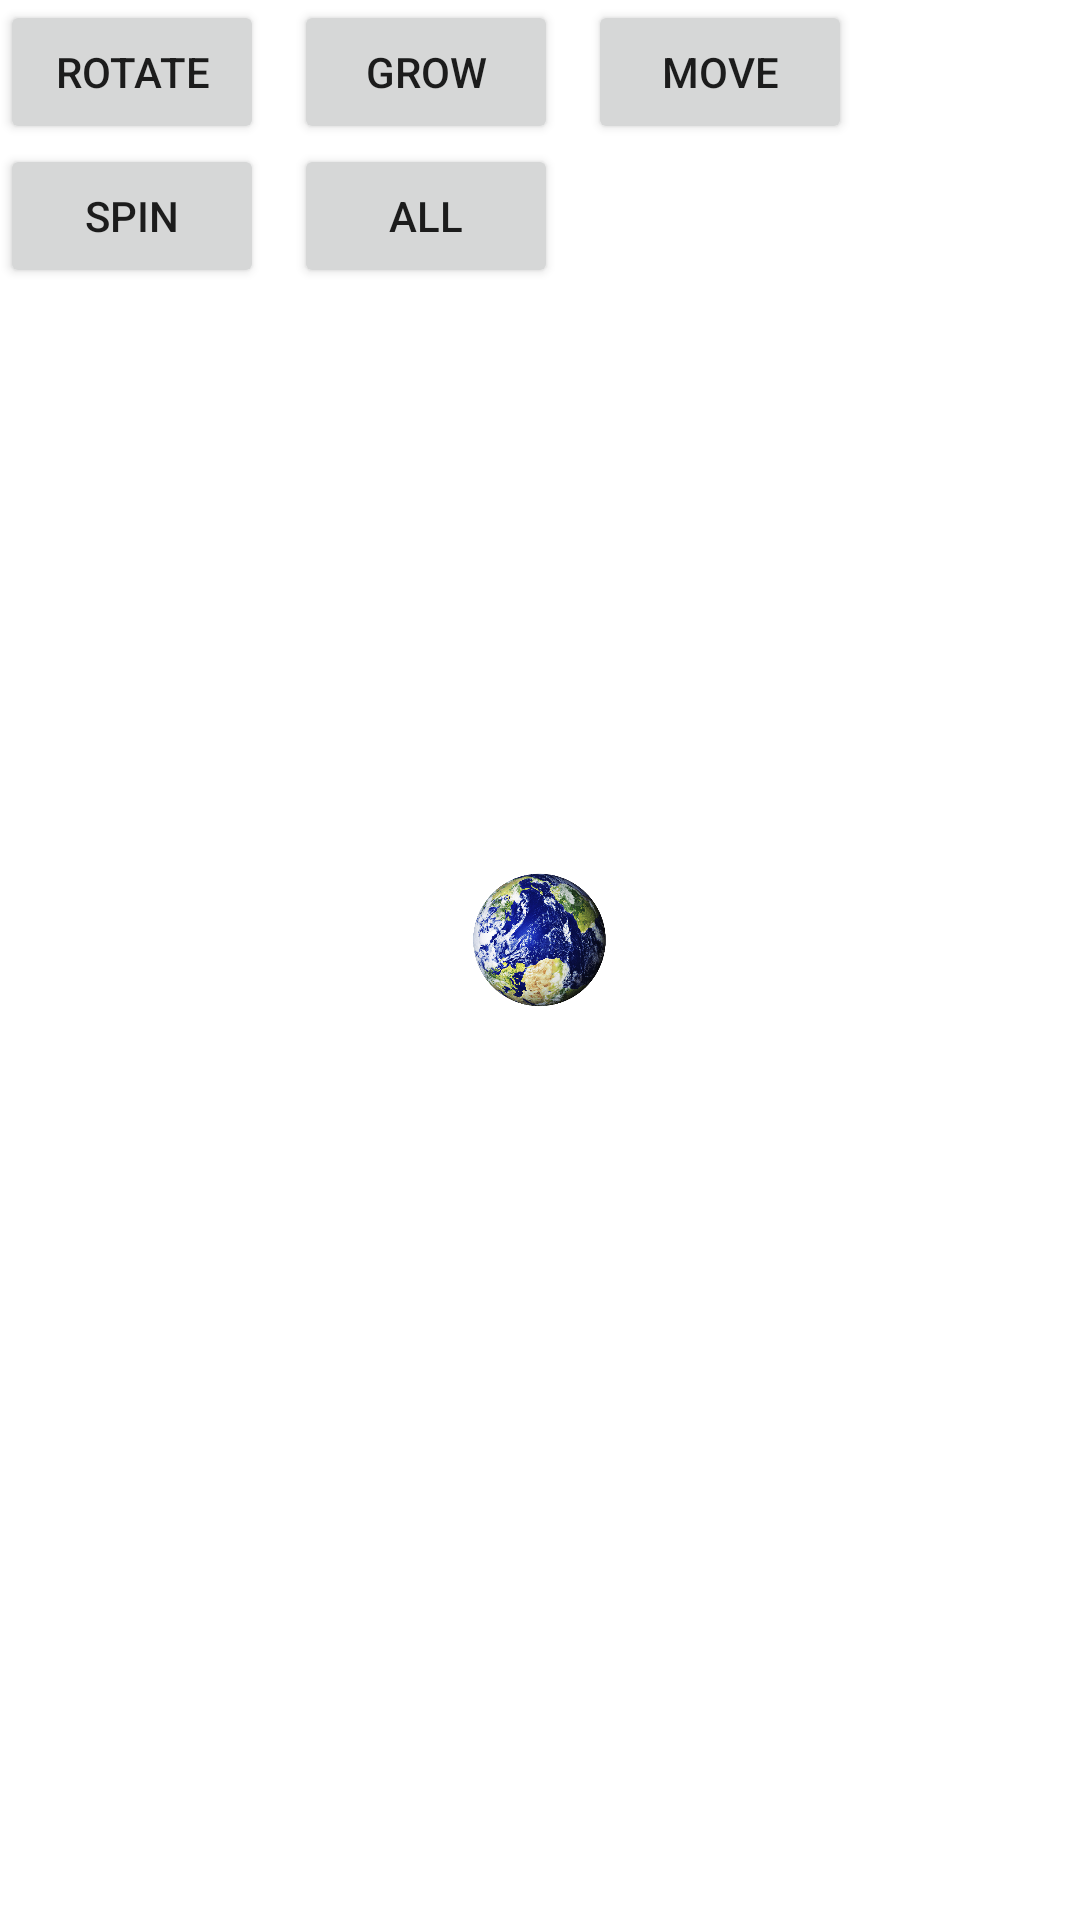

Where to tap for icons on this 1080px x 1920px app screen, as point (x, y):
earth: point (539, 940)
